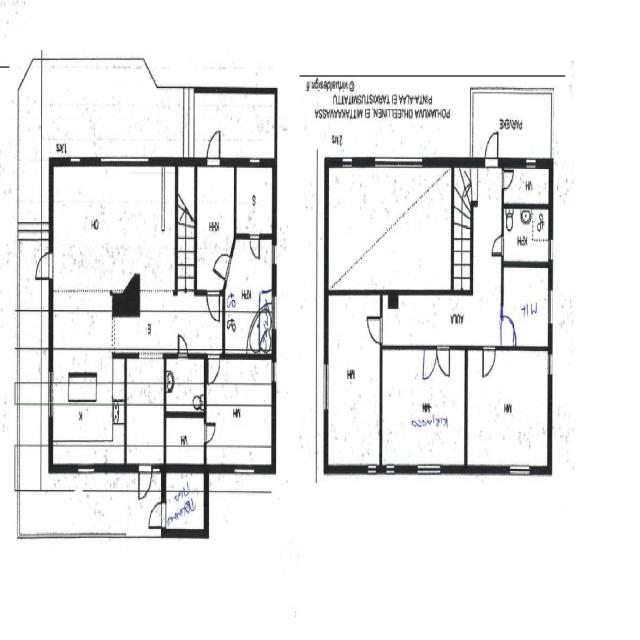door: (213, 247, 232, 282), (36, 254, 54, 280), (485, 132, 498, 168), (207, 132, 220, 167), (501, 318, 517, 346), (139, 465, 151, 501), (149, 504, 166, 528), (424, 346, 437, 377), (367, 318, 382, 344), (437, 346, 449, 377), (207, 292, 219, 322), (483, 346, 495, 376), (208, 354, 219, 384), (491, 236, 503, 257), (178, 336, 187, 361), (250, 234, 259, 259), (204, 425, 216, 443), (501, 171, 512, 189)
